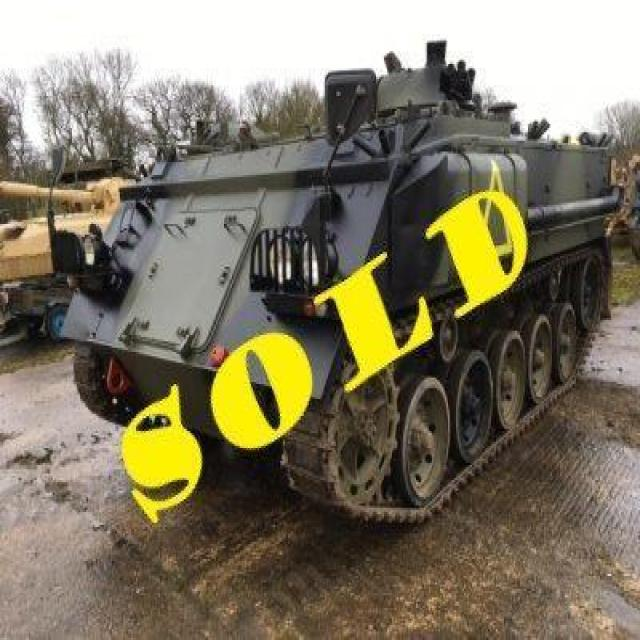Tanks: (66, 64, 616, 510)
